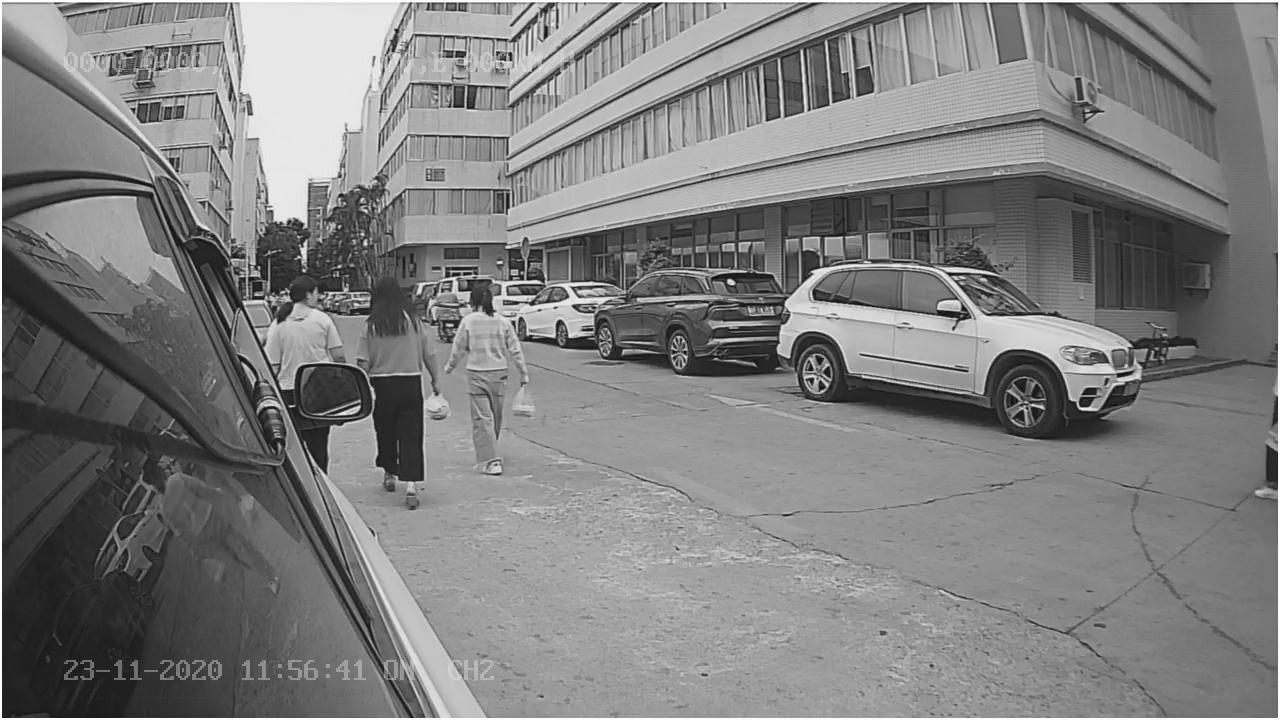person: (350, 275, 454, 517), (446, 283, 542, 428), (264, 275, 343, 360)
